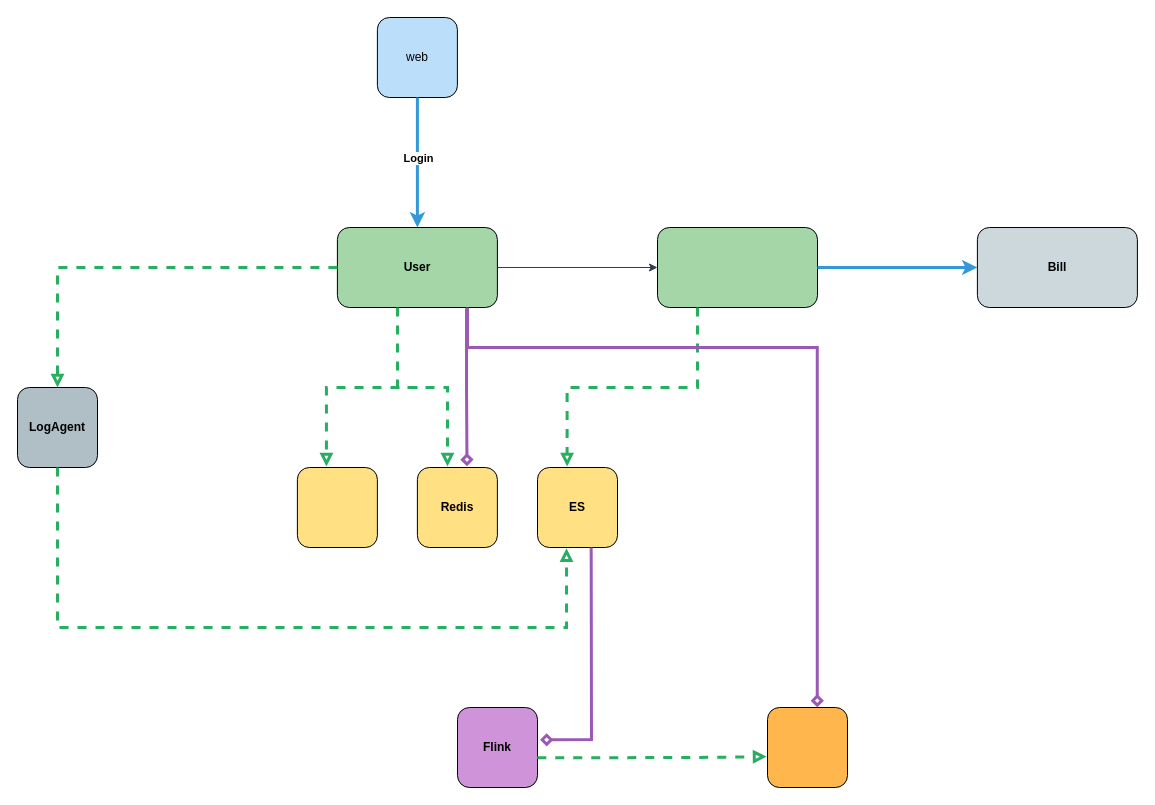
The diagram is 1155 pixels wide and 805 high, and some of its shapes have lost their labels. Each missing label, with the box of its shape:
Kafka: (766, 706, 848, 788)
Mysql: (296, 466, 377, 548)
Order: (656, 226, 818, 308)
